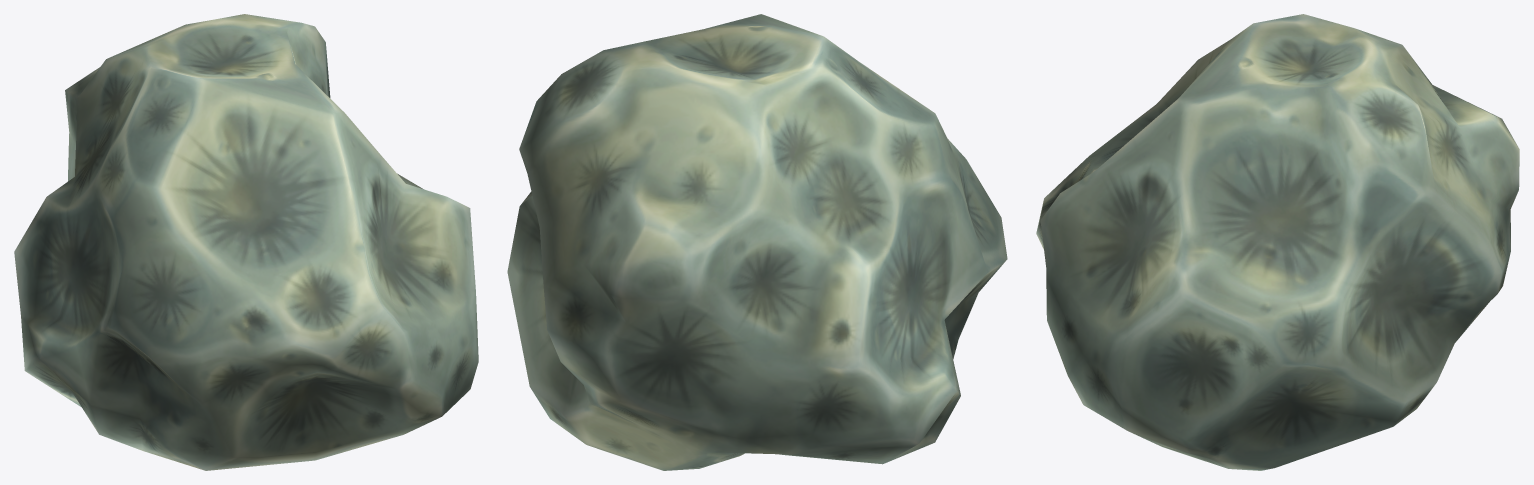
File: asteroid_2_0.fbx
3 views of the same model, side by side, from view 1: azimuth 30°, elevation 25°; view 2: azimuth 150°, elevation 25°; view 3: azimuth 270°, elevation 25° (orthographic). The views are drawn at different scales.
Visible parts, largest first — view 1: A2_LOD0; view 2: A2_LOD0; view 3: A2_LOD0.
Part boxes in pixels (x1,y1,x2,y2): A2_LOD0: [14, 14, 478, 470]; A2_LOD0: [507, 14, 1007, 470]; A2_LOD0: [1036, 14, 1519, 470].
Size of the model in its own units: 0.7692 by 0.7216 by 0.8298.
